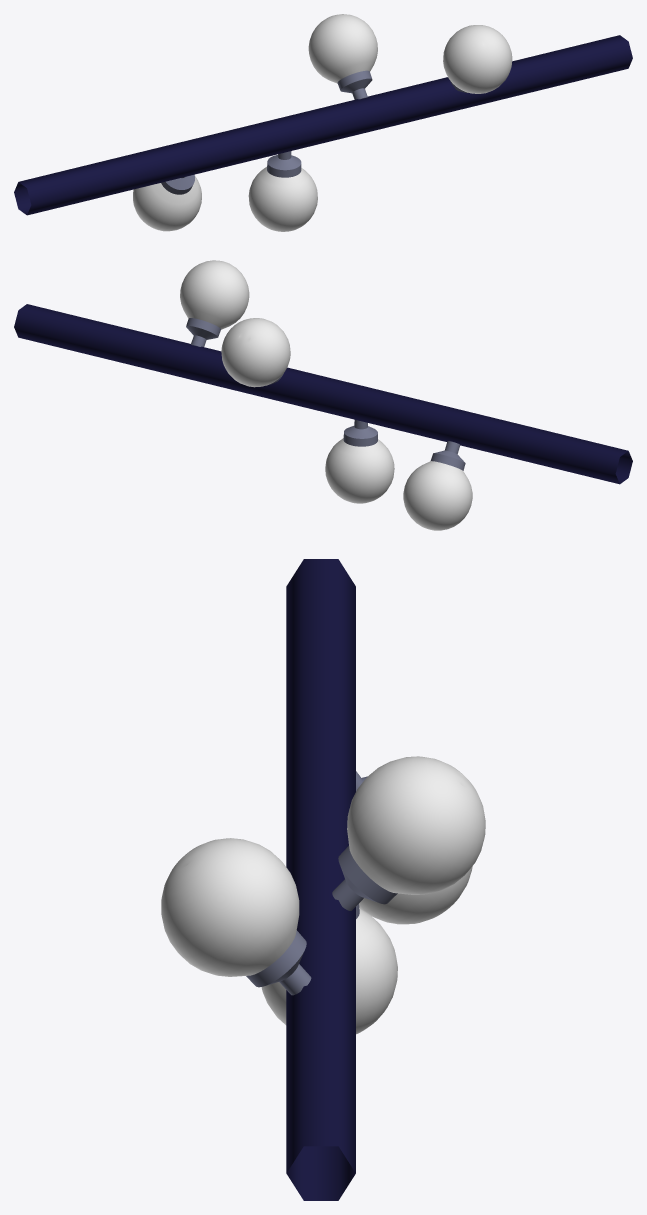
The model's file is Guirlande doite.002.fbx.
The picture shows the model from 3 angles, top to bottom: view 1: azimuth 30°, elevation 25°; view 2: azimuth 150°, elevation 25°; view 3: azimuth 270°, elevation 25°; orthographic projection. The views are drawn at different scales.
Parts seen in each view (by area): view 1: BézierCurve; view 2: BézierCurve; view 3: BézierCurve.
Boxes of the visible parts, left/top/right/bottom form: BézierCurve: left=14, top=14, right=632, bottom=231; BézierCurve: left=14, top=260, right=632, bottom=530; BézierCurve: left=161, top=559, right=485, bottom=1200.
Size of the model in its own units: 46.73 by 200 by 56.3.
